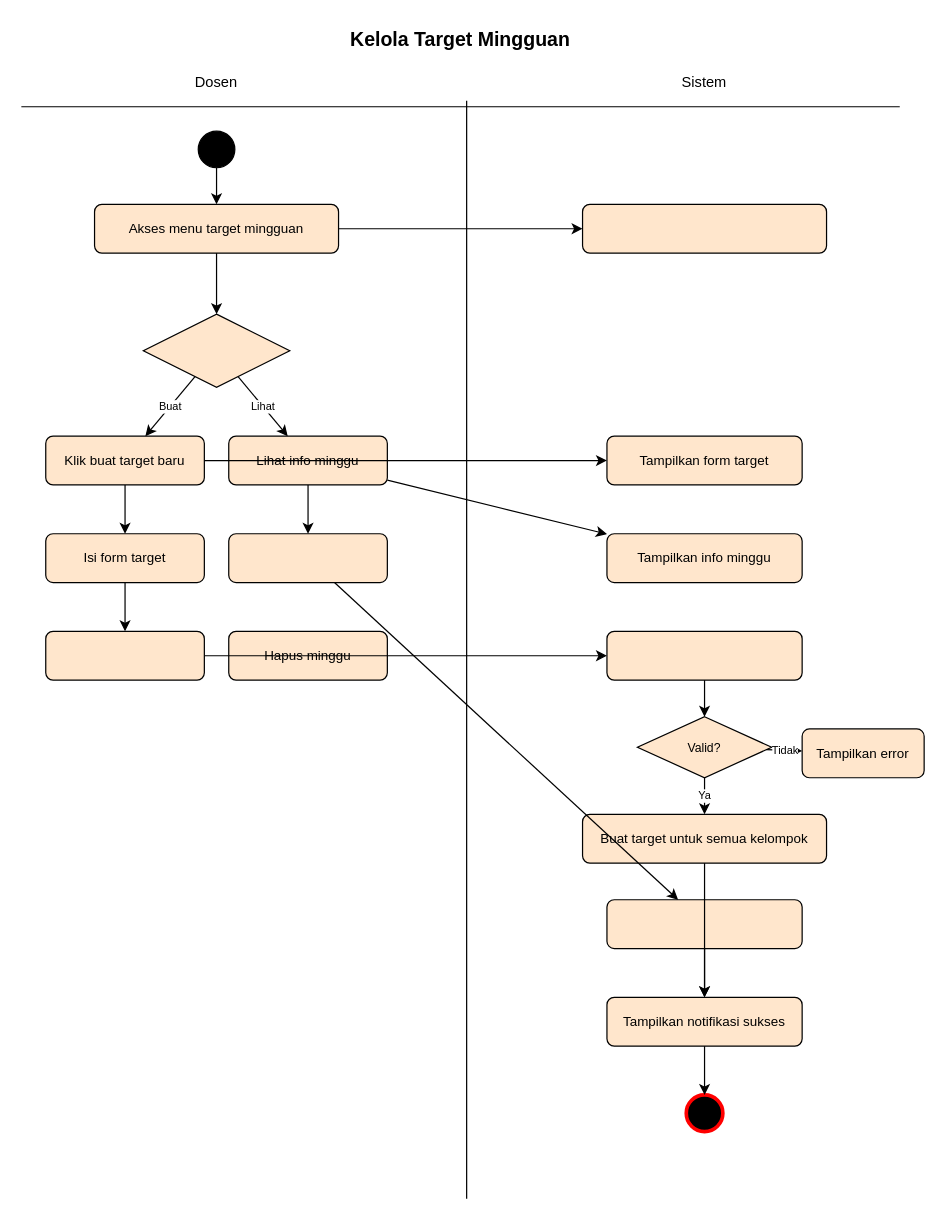
This 946x1220 diagram has some shape labels left out. The shapes that lost their labels are listed below. From the top down, each one's box as (x1, y1, x2, y2) in pixels, then its label:
(581, 203, 827, 253): Tampilkan daftar target per kelas
(142, 313, 290, 387): Pilih aksi
(228, 533, 387, 583): Buka/Tutup target
(45, 630, 204, 680): Submit target
(606, 630, 802, 680): Validasi data target
(606, 899, 802, 949): Update status target
